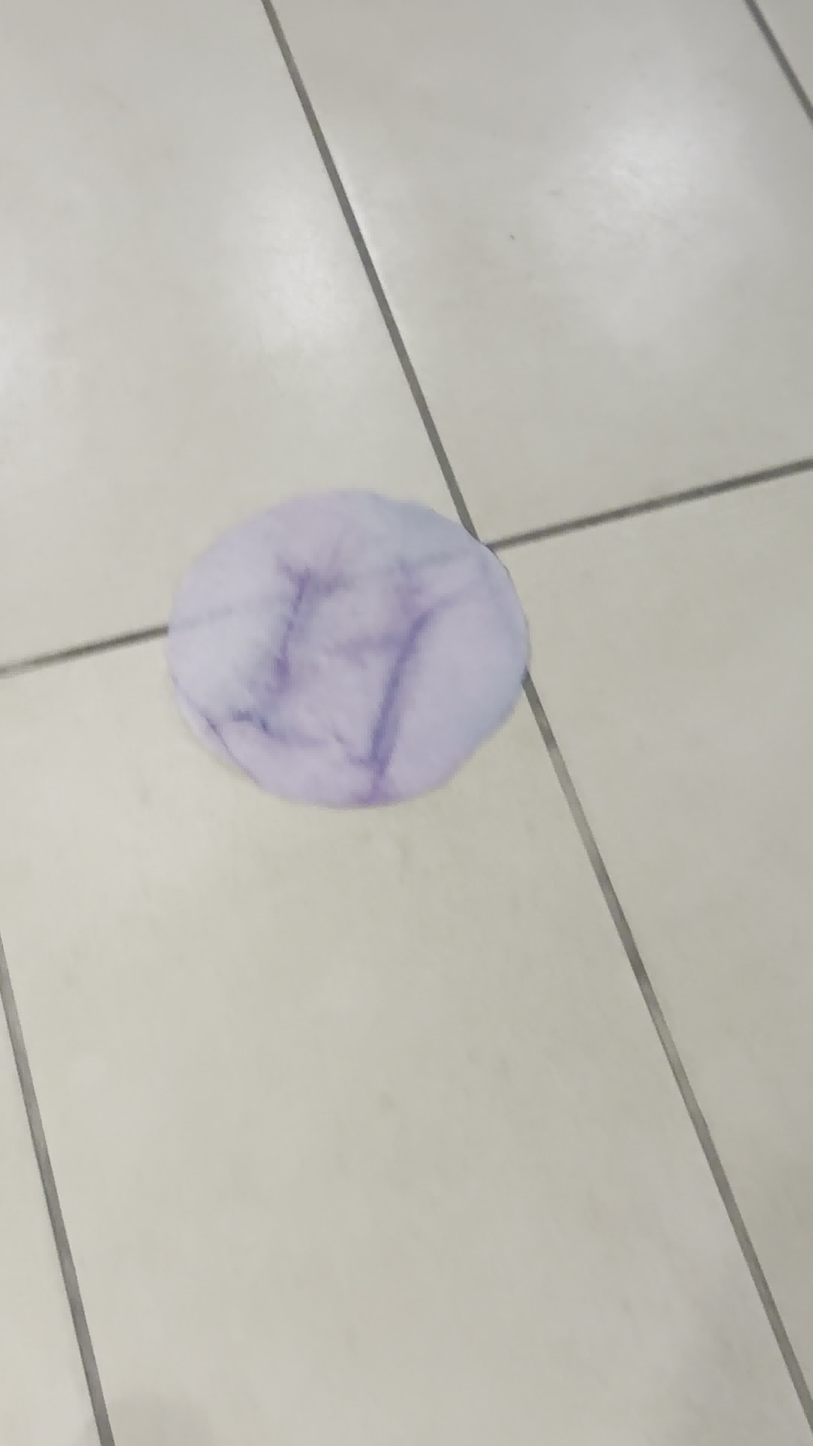Target: (172, 486, 532, 812)
